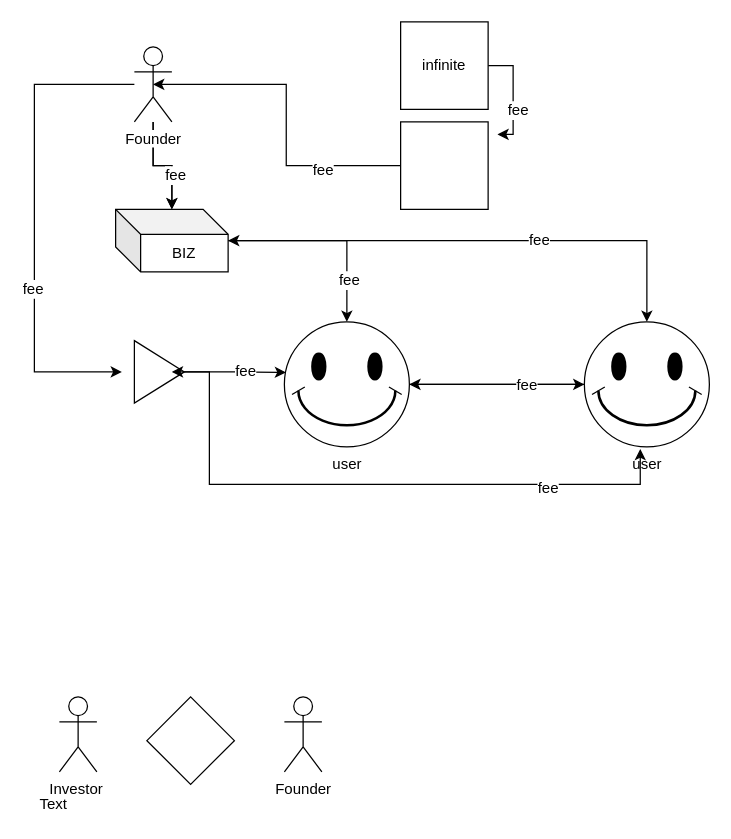
Some shapes in this 731 by 839 pixel diagram are drawn without their labels. Each missing label, with the centre of its shape:
10 million always: pixel 443 165
EX: pixel 158 371
SHIELD: pixel 190 740
